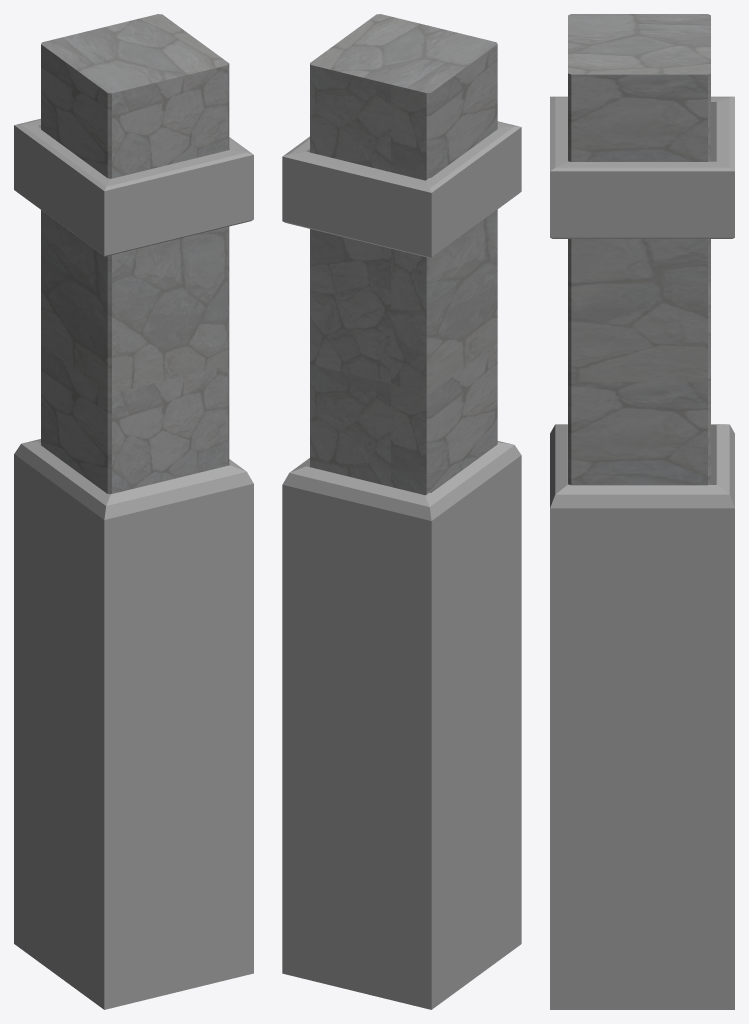
File: Jail_Pillar.fbx
3 renders of one model, left to right at view 1: azimuth 30°, elevation 25°; view 2: azimuth 150°, elevation 25°; view 3: azimuth 270°, elevation 25°, orthographic. The views are drawn at different scales.
Visible parts, largest first — view 1: Pillar1, Pillar, Pillar2; view 2: Pillar1, Pillar, Pillar2; view 3: Pillar1, Pillar, Pillar2.
Part boxes in pixels (box(x1,y1,x2,y2)): Pillar1: box(14, 439, 253, 1009); Pillar: box(41, 14, 229, 494); Pillar2: box(14, 118, 253, 256); Pillar1: box(282, 441, 521, 1009); Pillar: box(310, 14, 497, 495); Pillar2: box(282, 121, 521, 258); Pillar1: box(550, 424, 734, 1009); Pillar: box(568, 14, 710, 485); Pillar2: box(550, 96, 734, 238).
Bounding box in the file's own units: 558 × 3235 × 584.
